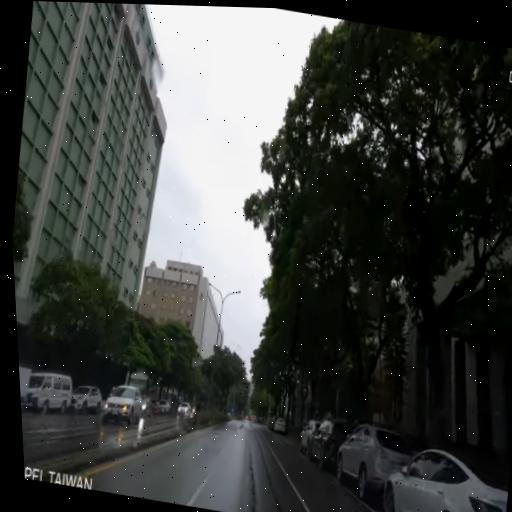Car: (371, 436, 512, 512), (331, 420, 419, 505), (305, 416, 364, 474), (20, 366, 77, 420), (101, 382, 145, 427), (66, 382, 106, 420), (296, 418, 330, 461), (19, 363, 36, 419), (130, 395, 154, 420), (273, 415, 288, 437), (155, 398, 172, 416), (178, 400, 192, 418), (267, 417, 277, 430)
